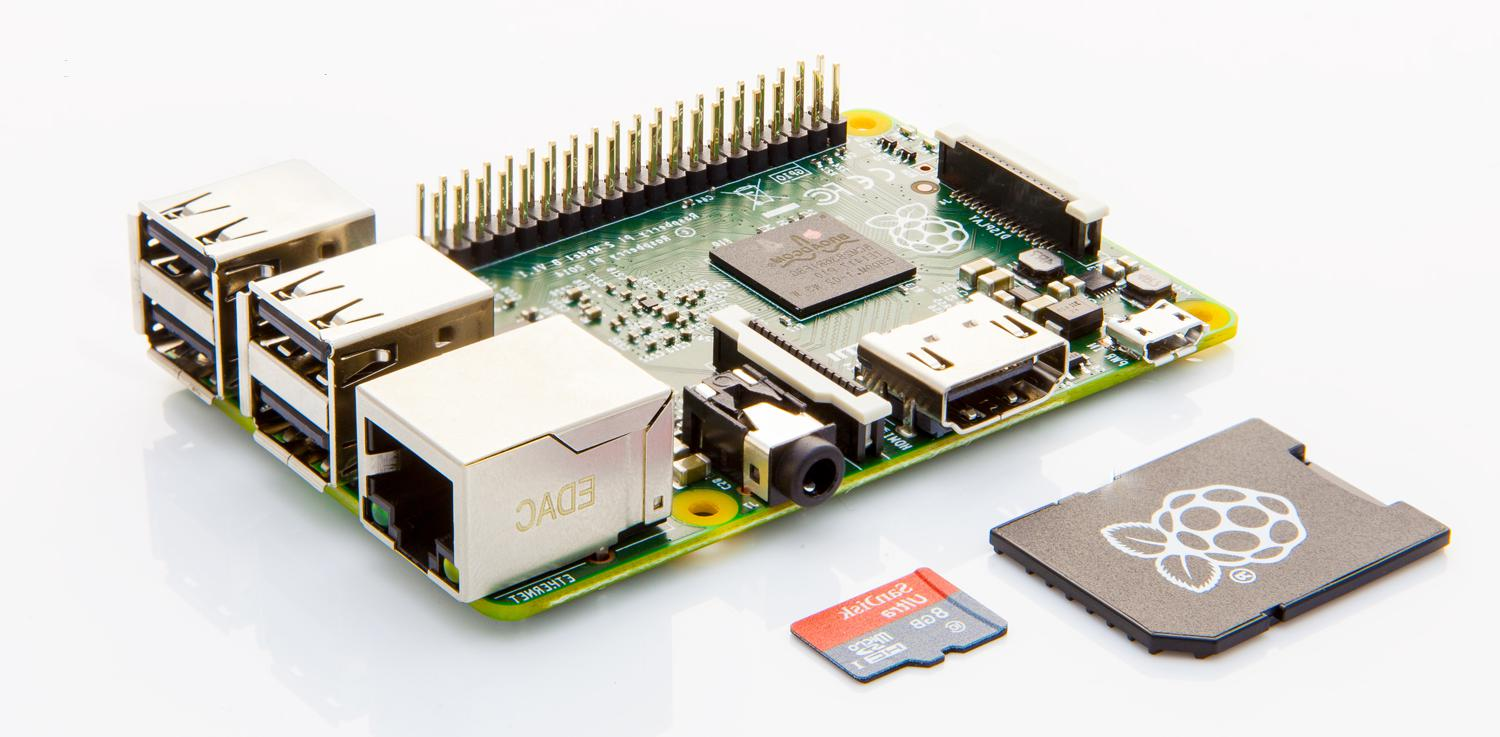audiojack: (680, 359, 854, 513)
bchi: (704, 213, 903, 309)
ethernet: (356, 309, 684, 595)
gpio: (411, 64, 850, 250)
usb: (234, 229, 493, 492), (133, 158, 374, 396)
